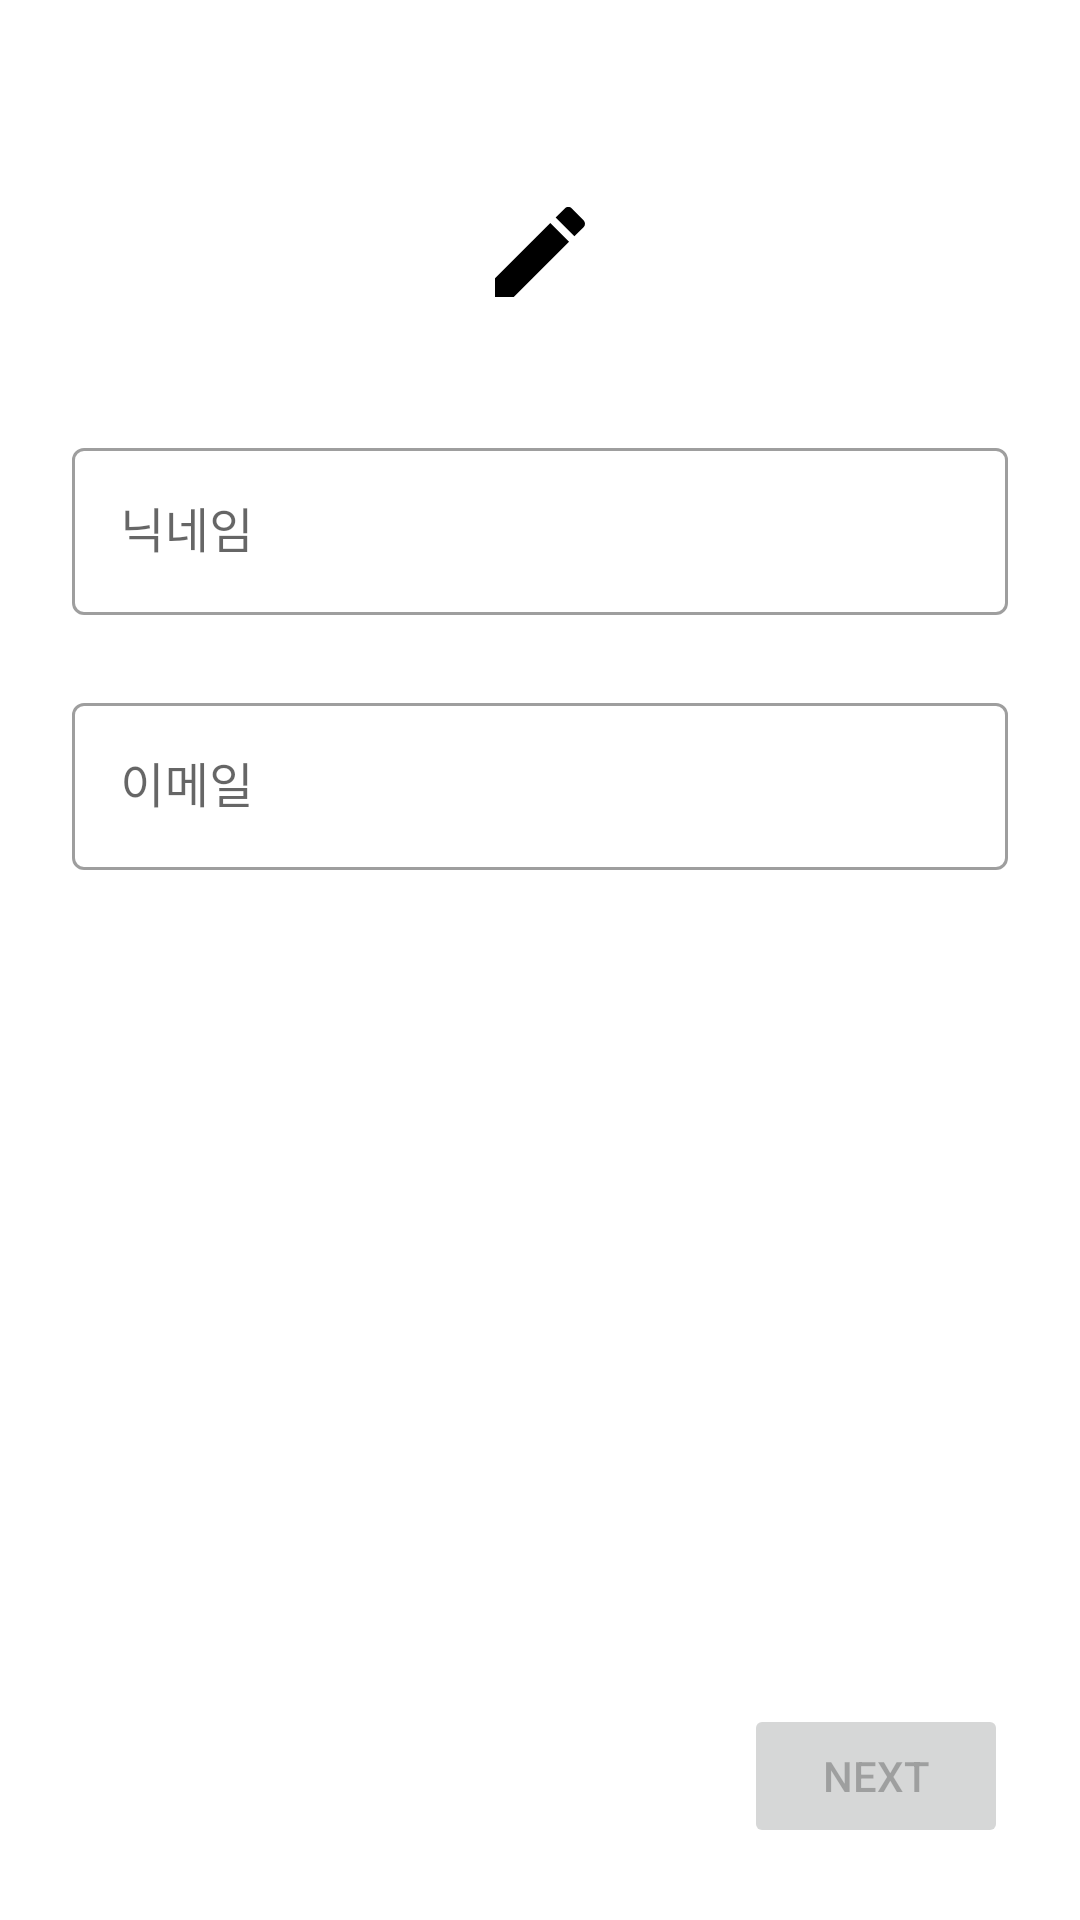

Named icons in this screenshot (1080w x 1920h) and their bounding boxes, (x1, y1, x2, y2):
pen: (495, 207, 585, 297)
